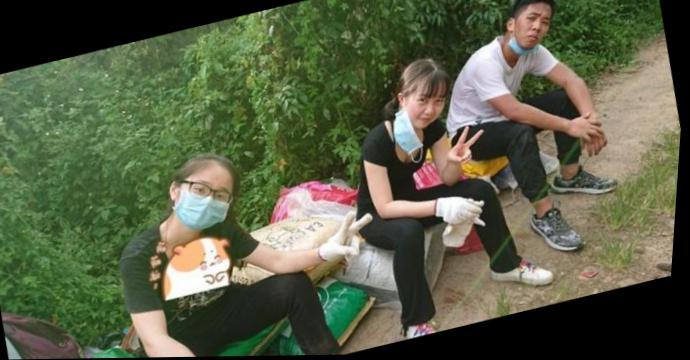OK: (177, 173, 242, 236)
WRONG: (506, 8, 558, 59), (402, 89, 455, 136)
